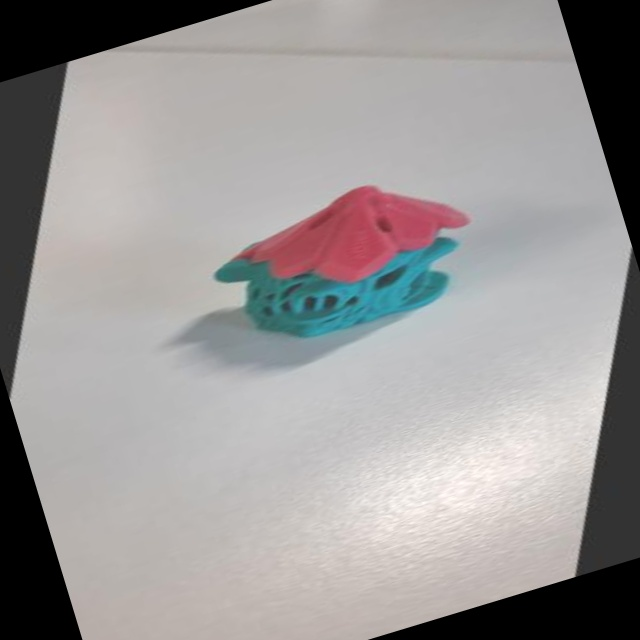House: (86, 111, 551, 432)
